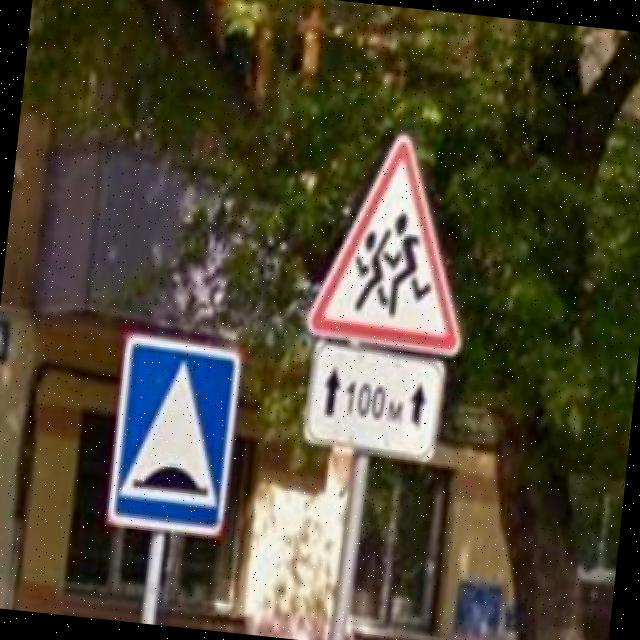Dzieci: (302, 125, 482, 356)
